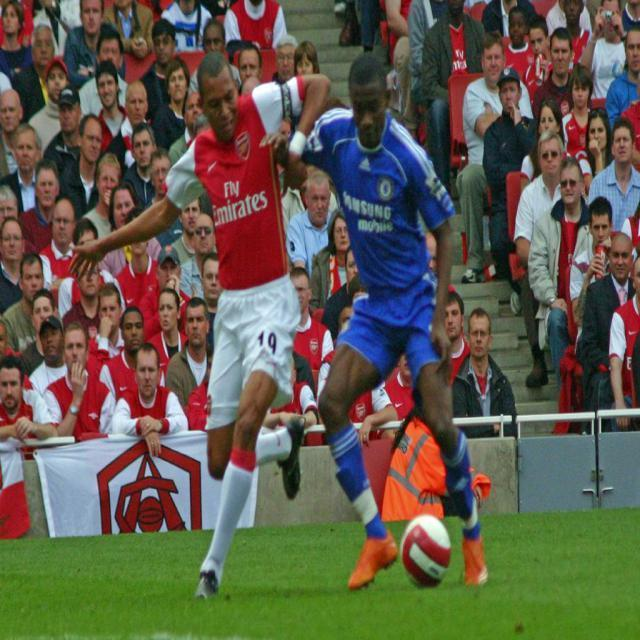football: (385, 507, 466, 601)
